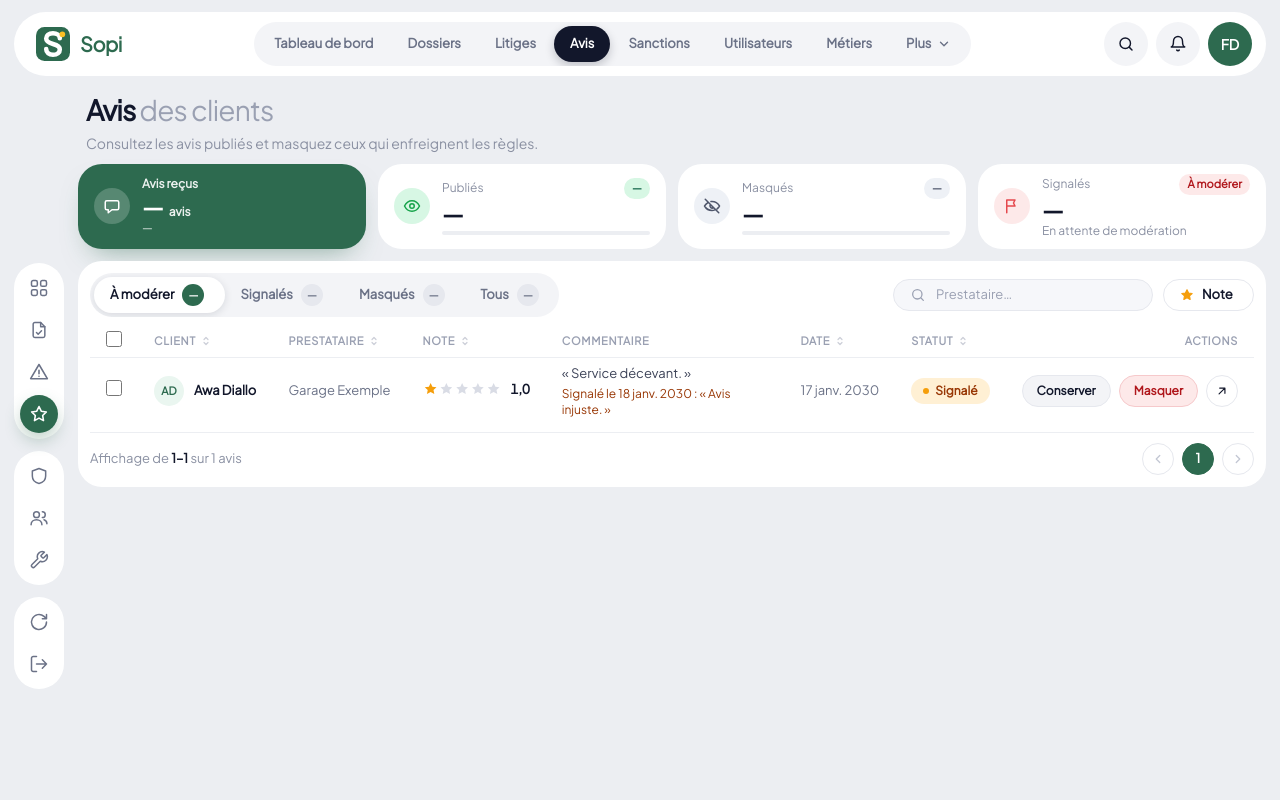
Scenario: modération des avis › propose Conserver et Masquer sur un avis signalé, avec le motif du signalement (RF15)
Expected: the text "Signalé le 18 janv. 2030 : « Avis injuste. »" is shown, [562,386,730,416]
Expected: the button with aria-label "Masquer l’avis de Awa Diallo" is shown, [1119,375,1198,407]
What coordinates should you click on to do the following:
click the button with aria-label "Conserver l’avis de Awa Diallo"
I would click on:
 (1066, 391)
Its box is [1022,375,1111,407].
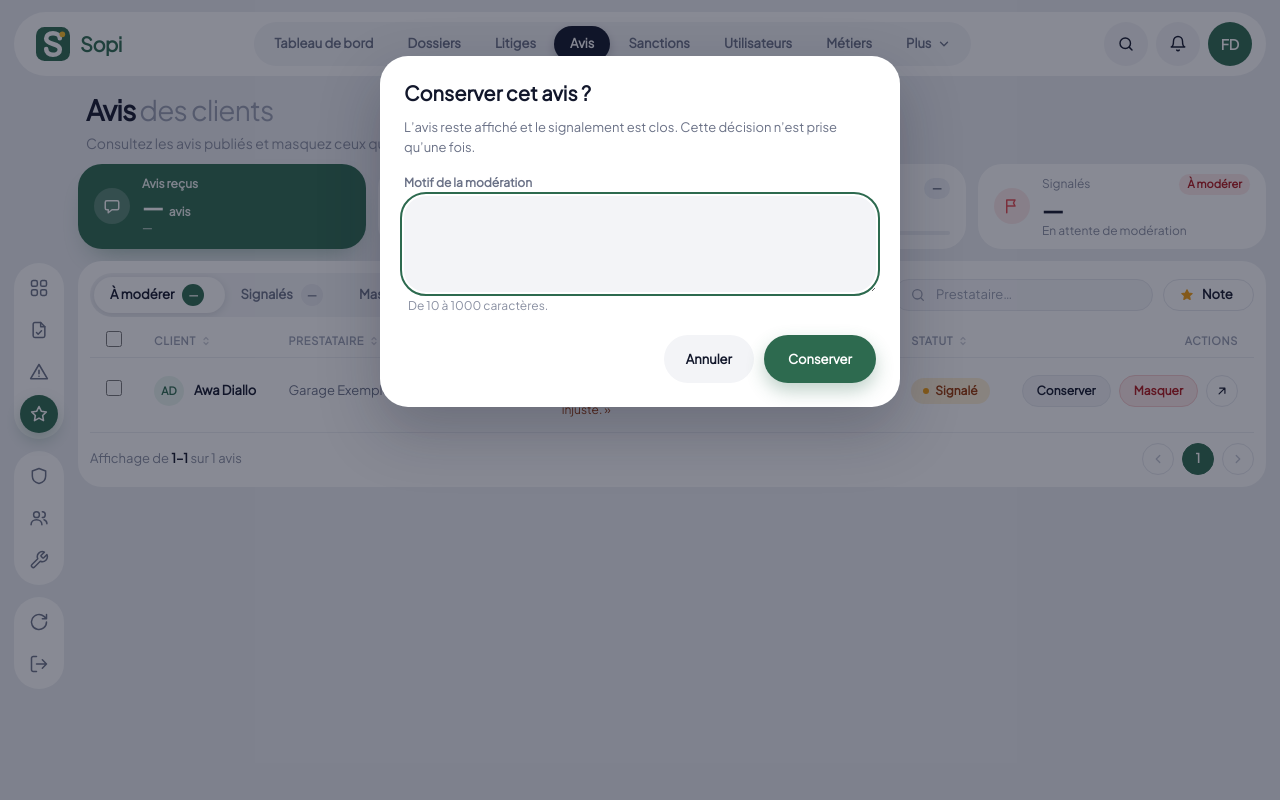
What coordinates should you click on to do the following:
click the button "Conserver"
I would click on:
 (820, 359)
Its box is [764,335,876,383].
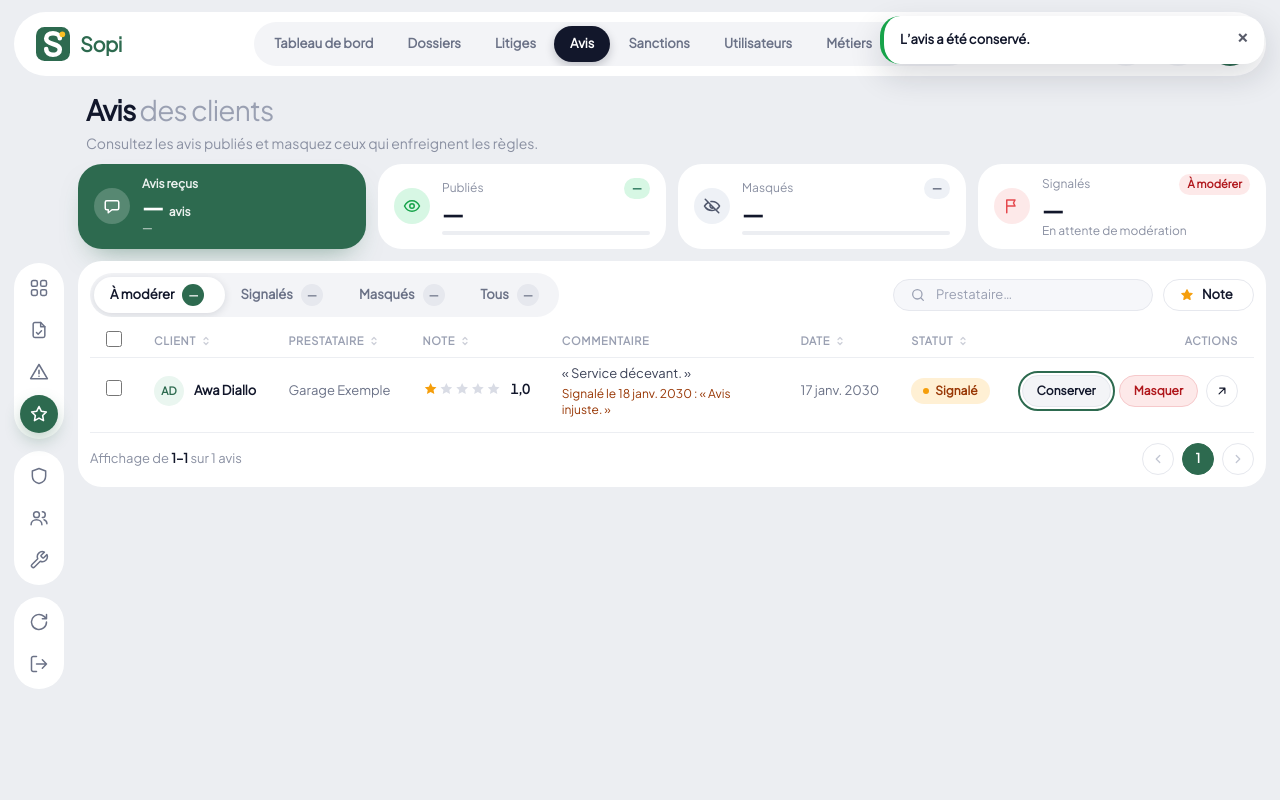
Expected: the text "L’avis a été conservé." is shown, [900,31,1030,47]
